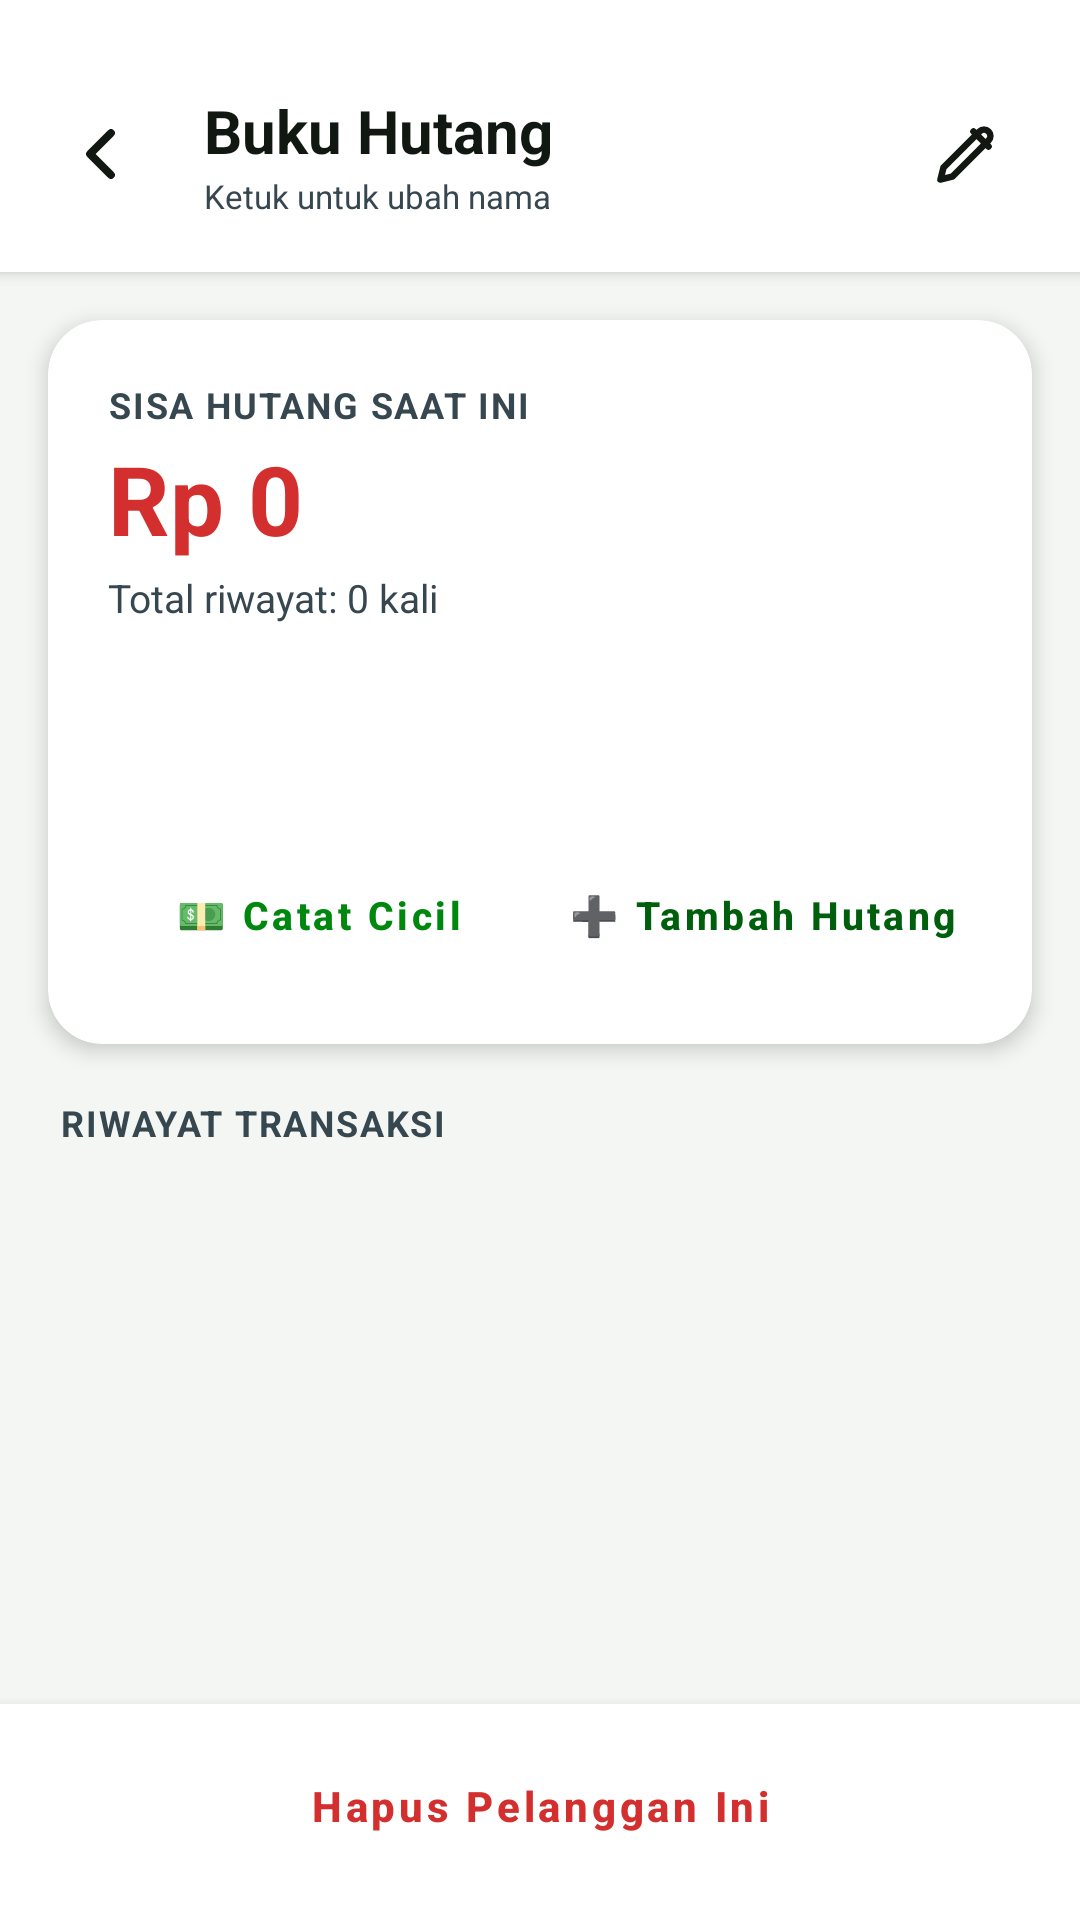

Where to tap for icons on this 1080x1920 app screen, as [x,y]:
Kembali: [100,154]
Ubah Nama: [965,154]
